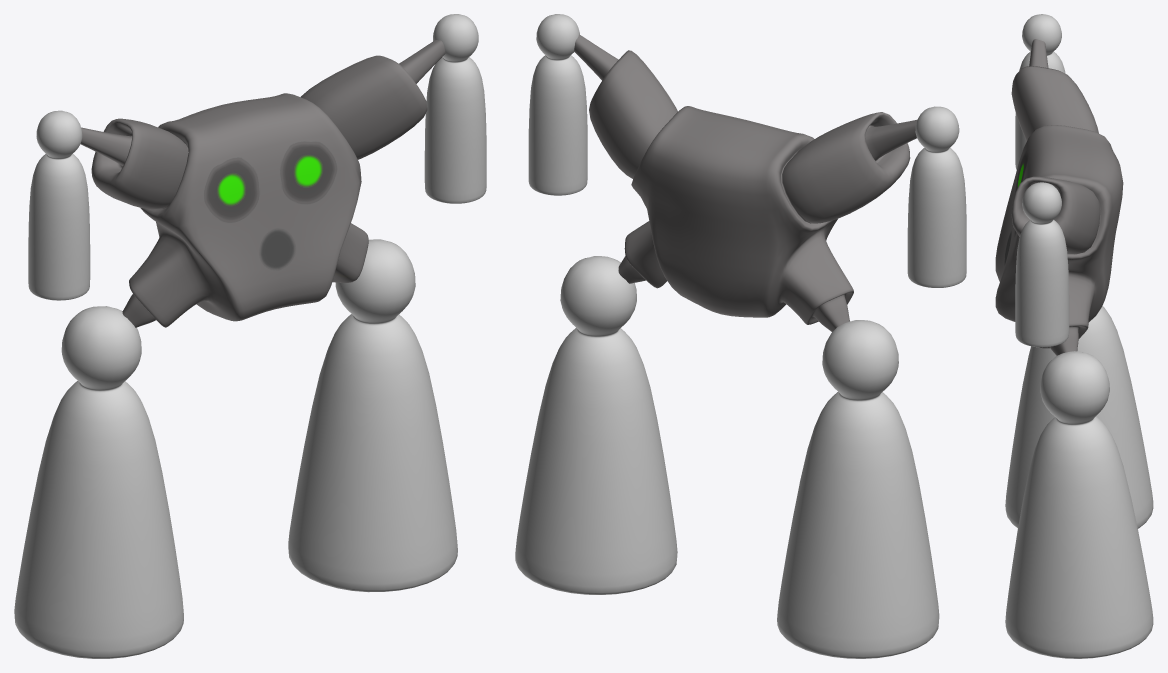
The model's file is JetPack 1.fbx.
The picture shows the model from 3 angles, left to right: view 1: azimuth 30°, elevation 25°; view 2: azimuth 150°, elevation 25°; view 3: azimuth 270°, elevation 25°; orthographic projection. The views are drawn at different scales.
Parts seen in each view (by area): view 1: Cylinder.001, Cylinder.004, Cylinder, Cylinder.003, Cylinder.002; view 2: Cylinder.001, Cylinder.004, Cylinder, Cylinder.003, Cylinder.002; view 3: Cylinder, Cylinder.001, Cylinder.004, Cylinder.002, Cylinder.003.
Part boxes in pixels (left/top/right/bottom): Cylinder.001: left=80, top=40, right=445, bottom=327; Cylinder.004: left=14, top=306, right=183, bottom=658; Cylinder: left=288, top=239, right=457, bottom=592; Cylinder.003: left=28, top=110, right=90, bottom=300; Cylinder.002: left=424, top=14, right=486, bottom=203; Cylinder.001: left=574, top=34, right=917, bottom=331; Cylinder.004: left=777, top=320, right=939, bottom=658; Cylinder: left=515, top=256, right=677, bottom=594; Cylinder.003: left=907, top=106, right=966, bottom=287; Cylinder.002: left=528, top=14, right=587, bottom=195; Cylinder: left=1005, top=351, right=1153, bottom=658; Cylinder.001: left=995, top=39, right=1123, bottom=355; Cylinder.004: left=1005, top=306, right=1153, bottom=528; Cylinder.002: left=1015, top=182, right=1069, bottom=347; Cylinder.003: left=1015, top=14, right=1065, bottom=169.
Size of the model in its own units: 147 by 169 by 51.29.
